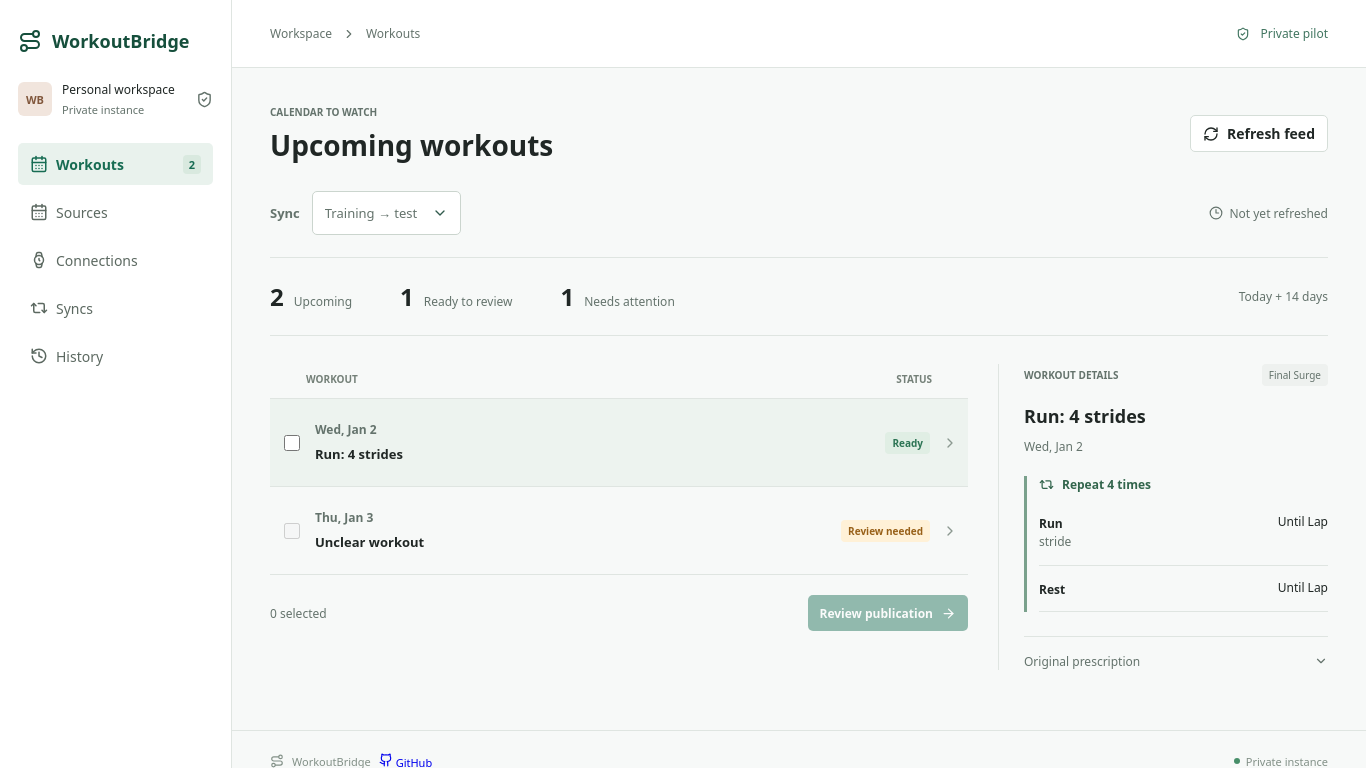
Test: dialog dismisses on backdrop taps but not inside taps
Expected: the heading "Upcoming workouts" is shown, [270, 128, 553, 163]
Click the button "Syncs" at (116, 308), box [18, 287, 213, 329]
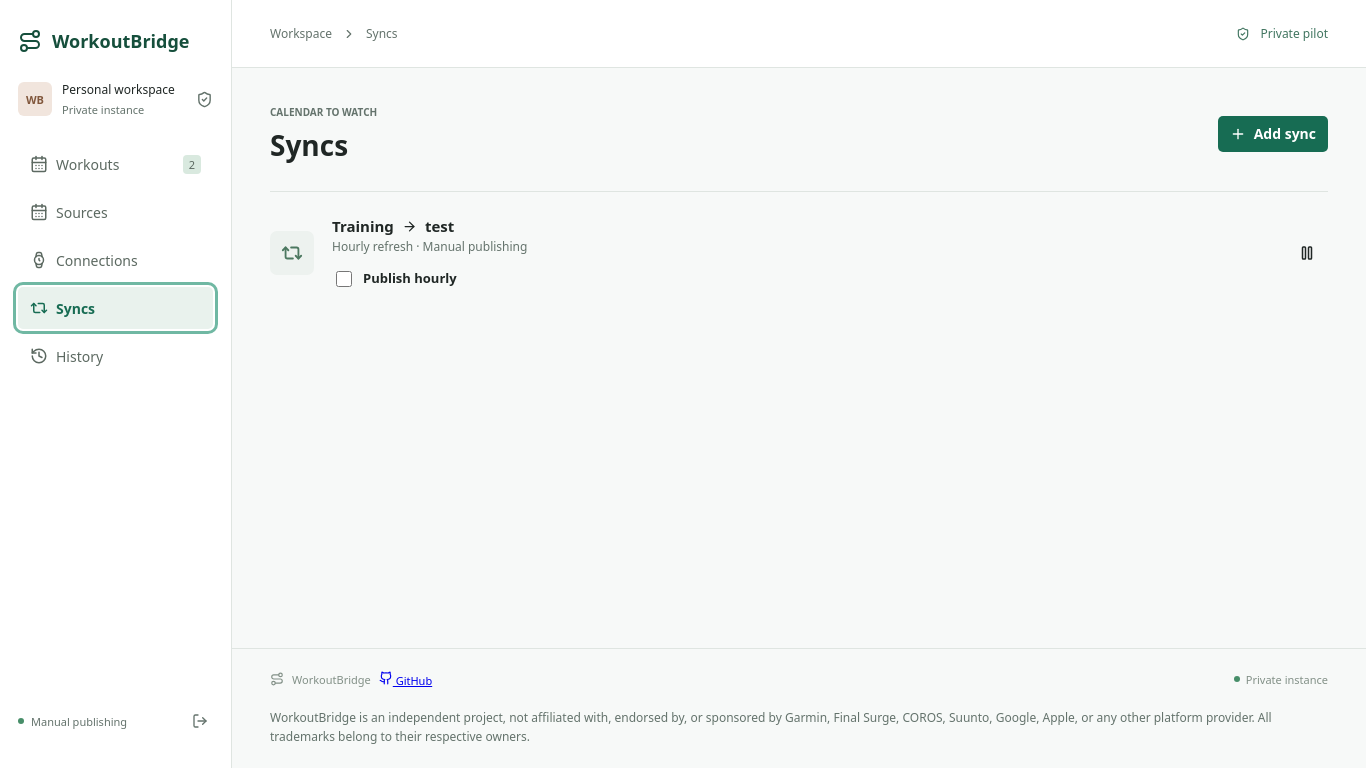
Click the checkbox named "Automatic publishing for test" at (344, 279), box [336, 271, 352, 287]
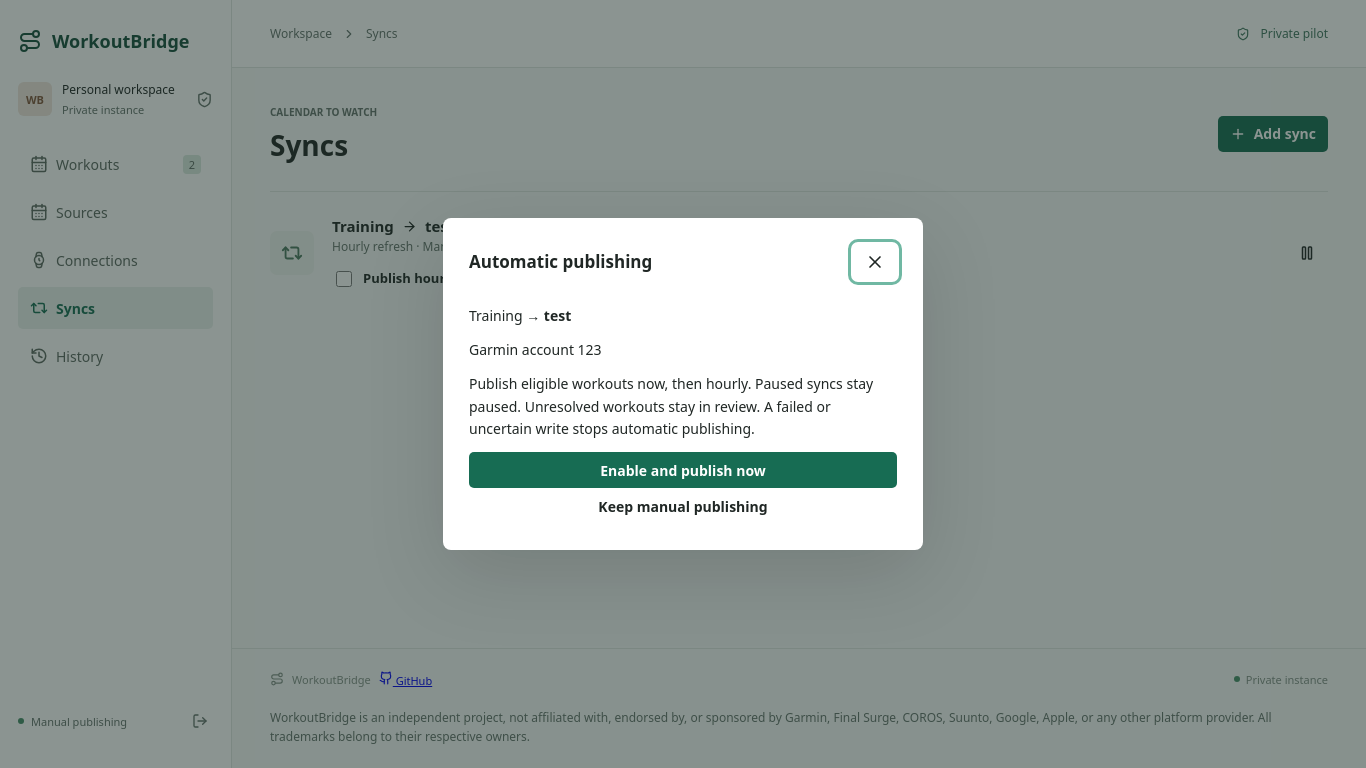
Click the text "Garmin account 123" at (535, 349), box [469, 340, 602, 359]
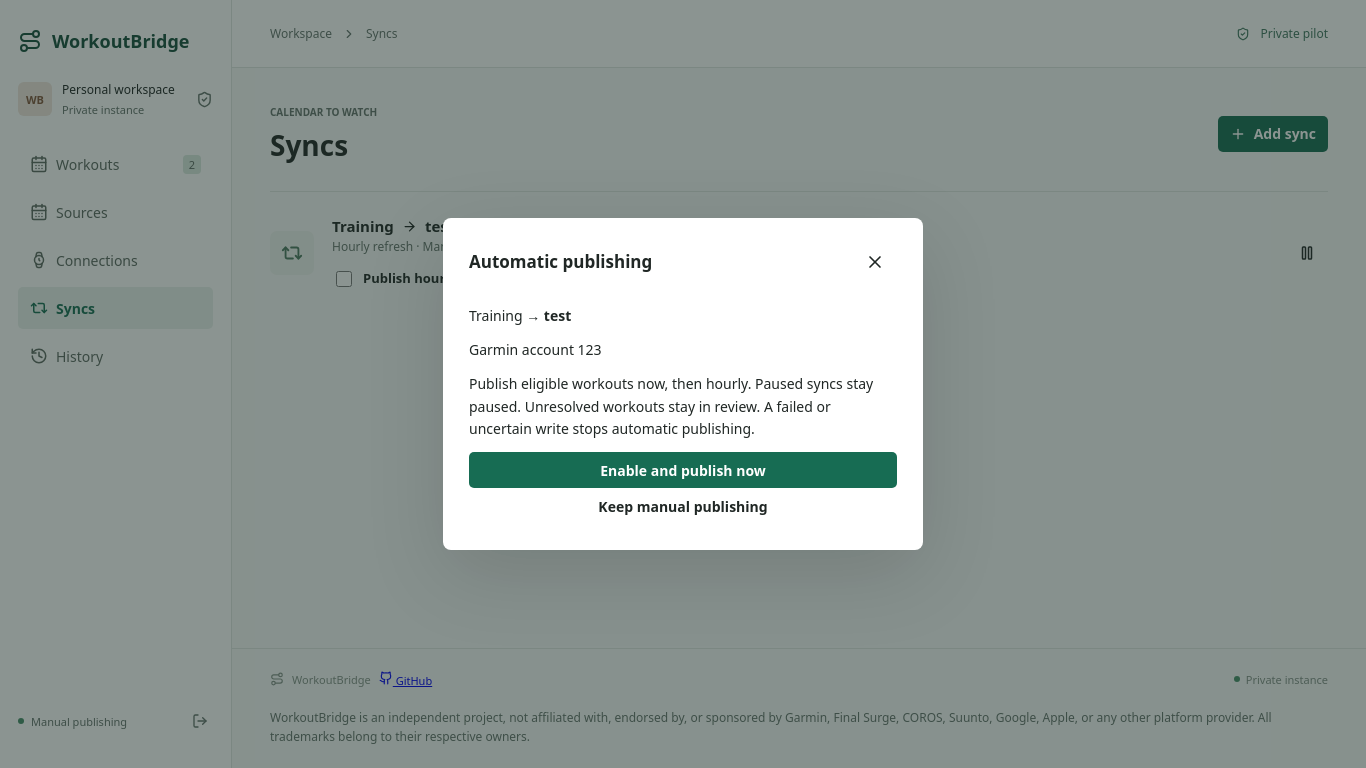
Expected: the dialog is shown, [443, 218, 923, 550]
Click the element that starts with "Automatic publishing" at (82, 384), box [0, 0, 1365, 767]
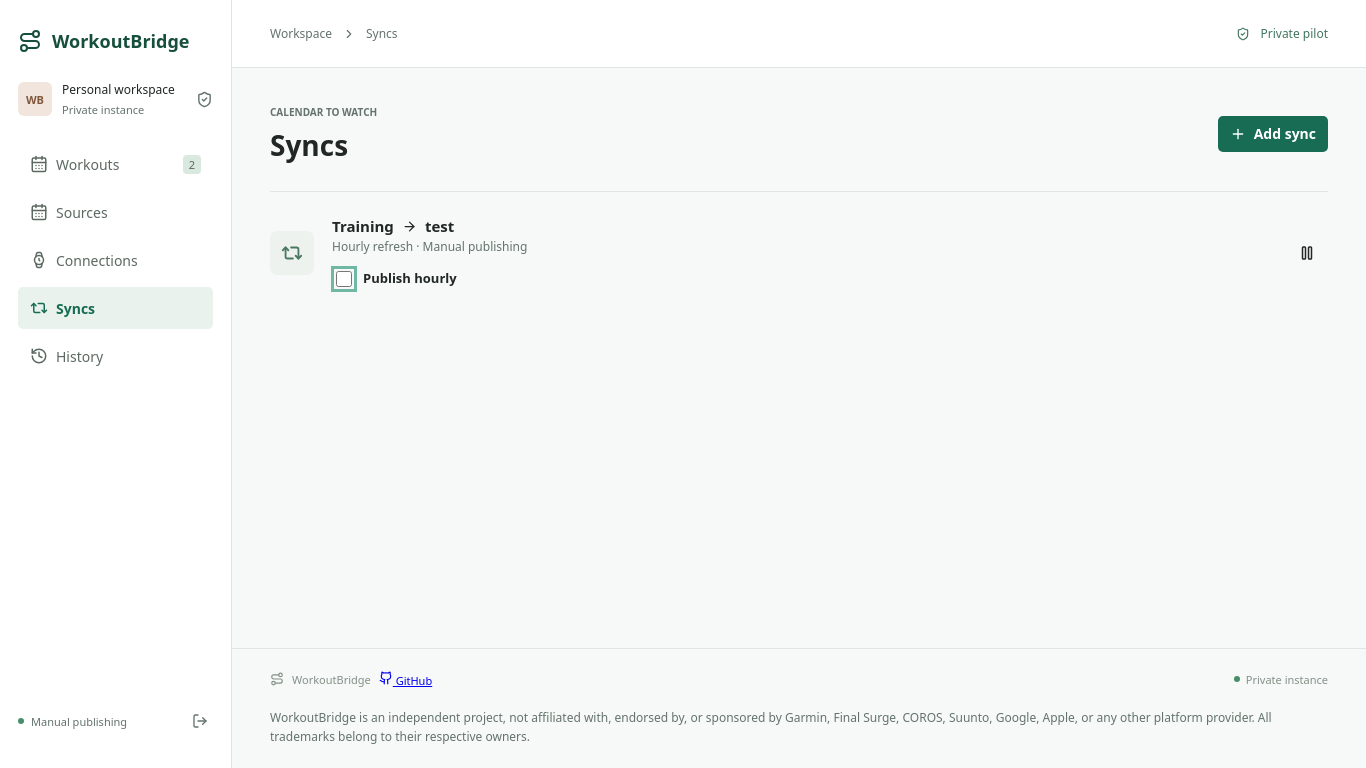
Expected: the dialog is gone
